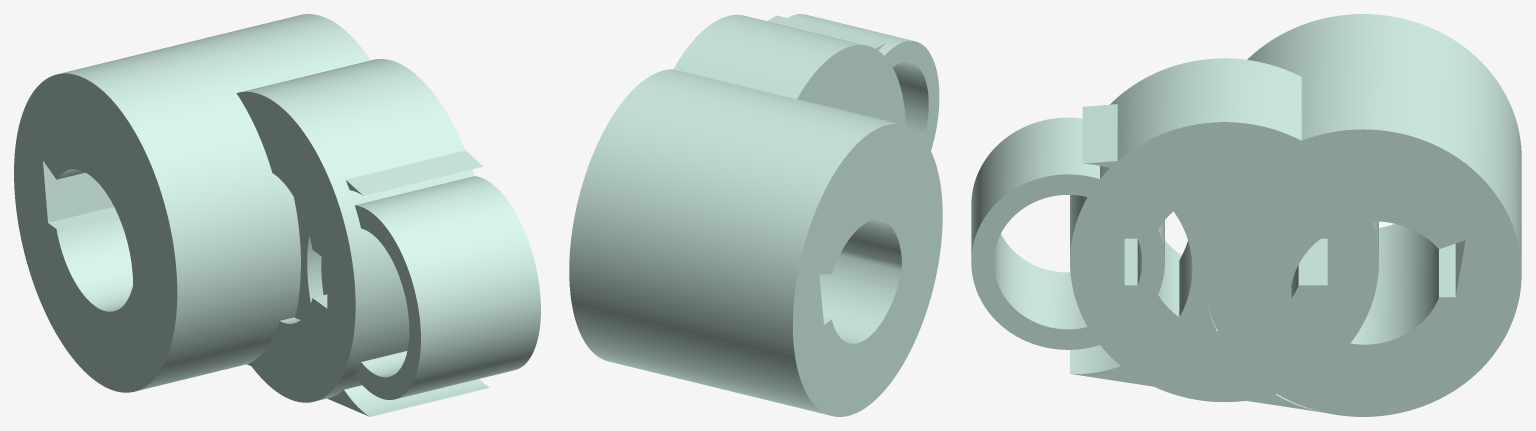
3 renders of one model, left to right at view 1: azimuth 30°, elevation 25°; view 2: azimuth 150°, elevation 25°; view 3: azimuth 270°, elevation 25°, orthographic. The views are drawn at different scales.
Parts seen in each view (by area): view 1: Renderer Node; view 2: Renderer Node; view 3: Renderer Node.
Part boxes in pixels (x1,y1,x2,y2): Renderer Node: (14,14,540,416); Renderer Node: (569,14,942,416); Renderer Node: (971,14,1521,416).
Size of the model in its own units: 0.5234 by 0.6234 by 1.05.
